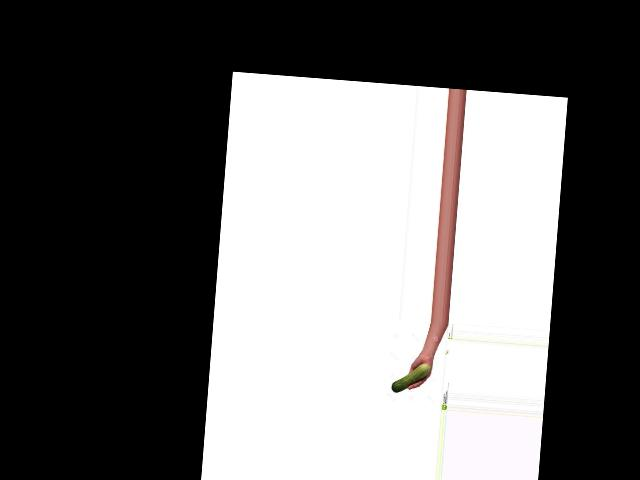cucumber: (391, 360, 430, 394)
